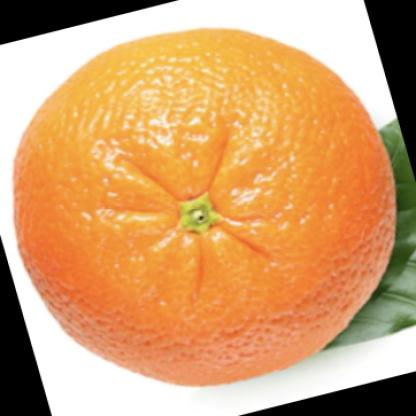fresh: (17, 30, 396, 381)
